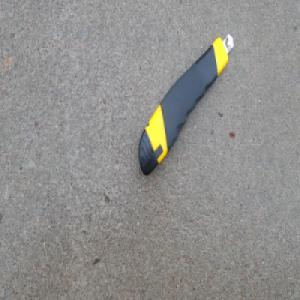Cutter: (137, 33, 234, 178)
